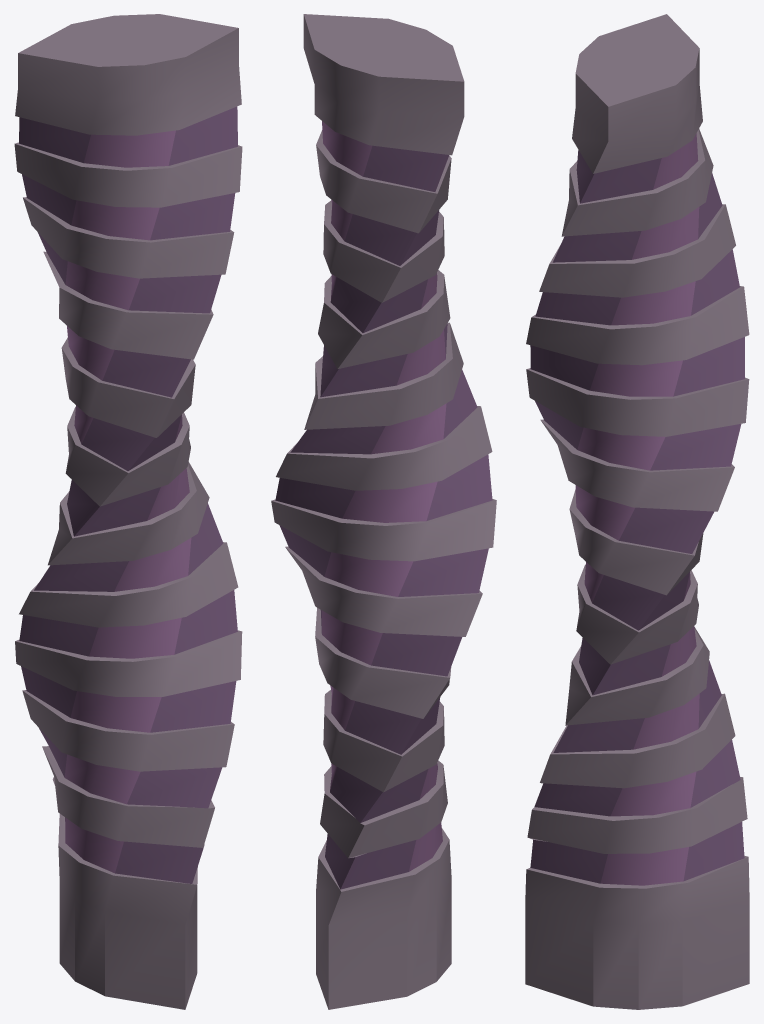
File: Tall2.fbx
3 views of the same model, side by side, from view 1: azimuth 30°, elevation 25°; view 2: azimuth 150°, elevation 25°; view 3: azimuth 270°, elevation 25° (orthographic).
Visible parts, largest first — view 1: pCylinder1; view 2: pCylinder1; view 3: pCylinder1.
Boxes of the visible parts, x1=… form: pCylinder1: x1=14, y1=14, x2=242, y2=1009; pCylinder1: x1=271, y1=14, x2=496, y2=1009; pCylinder1: x1=525, y1=14, x2=749, y2=1009.
Size of the model in its own units: 11.77 by 52.73 by 11.61.
